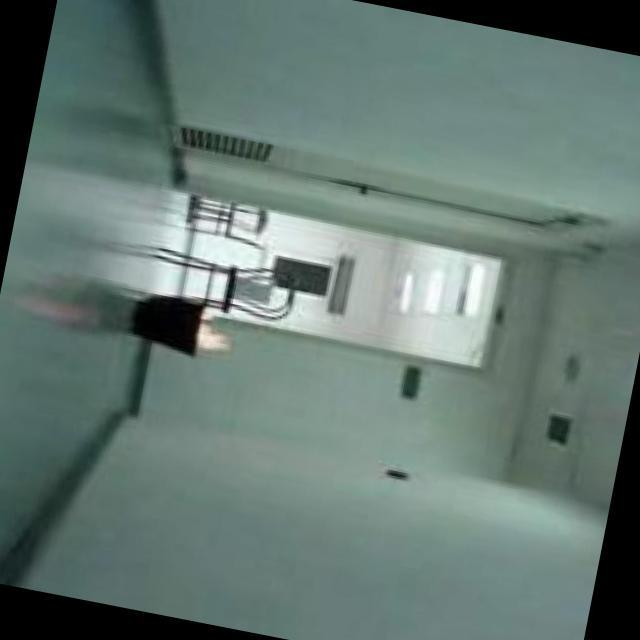Fire: (192, 308, 236, 355)
